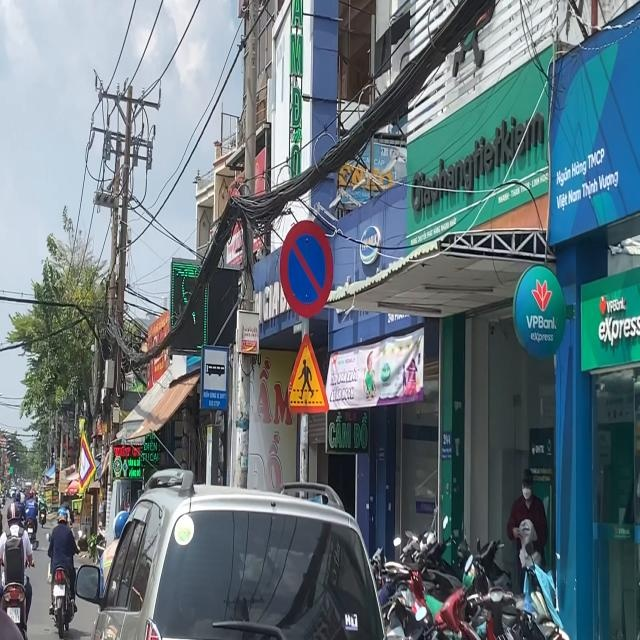bien_cam: (282, 214, 334, 317), (286, 328, 332, 416)
